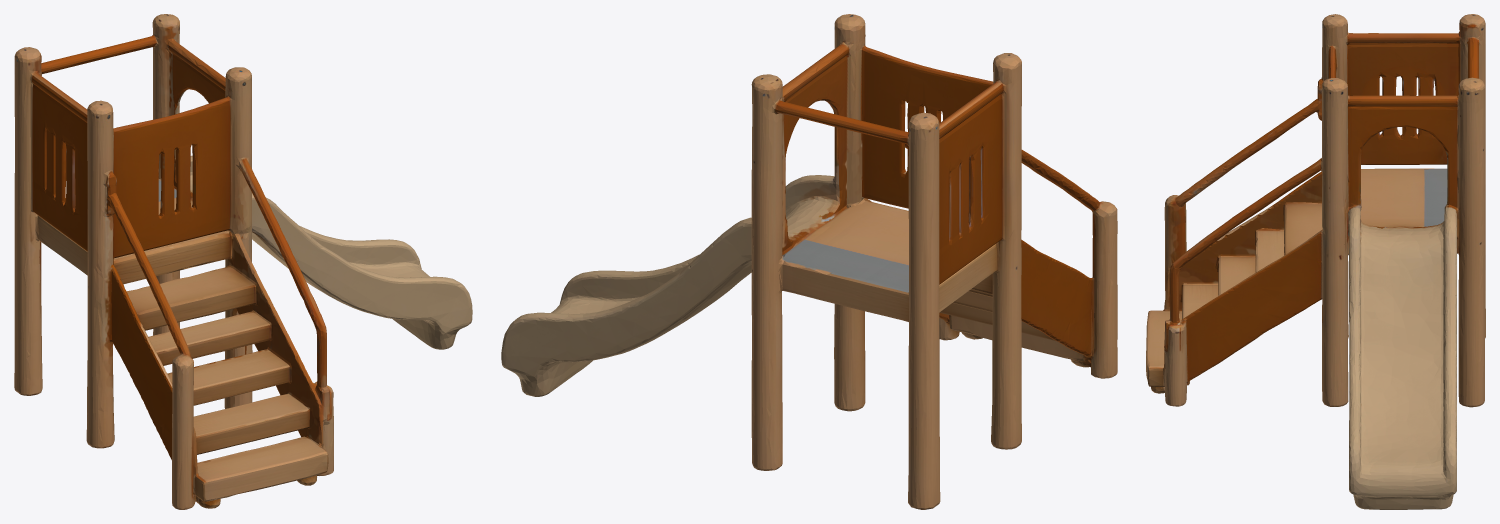
Rendered from room-04-slide-tower.glb.
3 renders of one model, left to right at view 1: azimuth 30°, elevation 25°; view 2: azimuth 150°, elevation 25°; view 3: azimuth 270°, elevation 25°, orthographic. The views are drawn at different scales.
Parts seen in each view (by area): view 1: textured_mesh.obj; view 2: textured_mesh.obj; view 3: textured_mesh.obj.
Part boxes in pixels (x1,y1,x2,y2): textured_mesh.obj: [14, 14, 472, 509]; textured_mesh.obj: [501, 14, 1117, 509]; textured_mesh.obj: [1146, 14, 1485, 509].
Size of the model in its own units: 3.61 by 3 by 2.86.
1 material, 1 textured.
